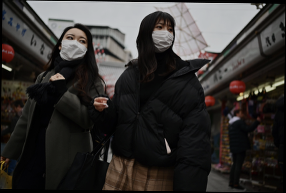with_mask: (59, 31, 89, 60), (151, 21, 175, 52)
